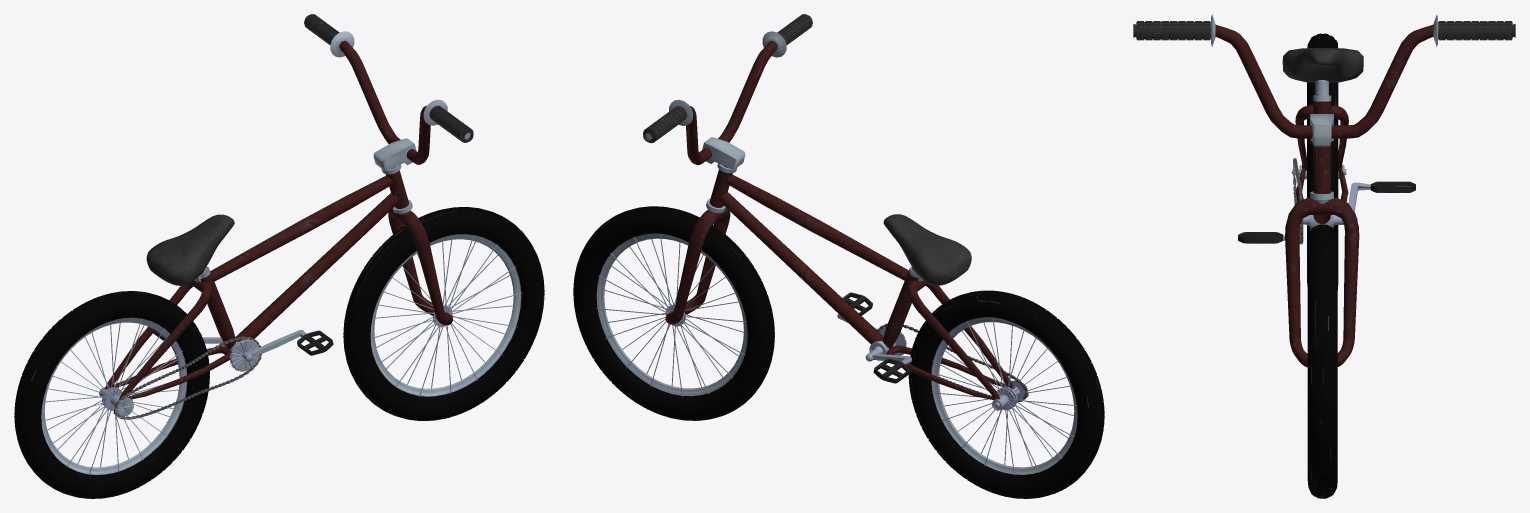
The model's file is bmx.glb.
The picture shows the model from 3 angles, left to right: view 1: azimuth 30°, elevation 25°; view 2: azimuth 150°, elevation 25°; view 3: azimuth 270°, elevation 25°; orthographic projection. The views are drawn at different scales.
Visible parts, largest first — view 1: Cylinder.006, Cylinder.005, Cylinder.011, Cube, Cylinder.001, Cylinder, Cylinder.004, Cylinder.007, Cube.003, Cube.001, Cylinder.009, Cube.002 (+7 smaller); view 2: Cylinder.006, Cylinder.005, Cylinder.011, Cube, Cylinder.001, Cylinder, Cylinder.004, Cylinder.007, Cube.002, Cube.013, Cube.003, Cube.001 (+6 smaller); view 3: Cylinder.006, Cylinder.011, Cylinder.004, Cube, Cylinder.005, Cylinder.002, Cylinder.007, Cube.005, Cylinder.009, Cube.007, Cube.006, Cylinder.003.
Part boxes in pixels (left/top/right/bottom): Cylinder.006: left=343, top=207, right=544, bottom=420; Cylinder.005: left=14, top=291, right=209, bottom=498; Cylinder.011: left=304, top=14, right=473, bottom=164; Cube: left=146, top=214, right=234, bottom=285; Cylinder.001: left=235, top=193, right=399, bottom=341; Cylinder: left=210, top=176, right=392, bottom=281; Cylinder.004: left=388, top=208, right=452, bottom=327; Cylinder.007: left=104, top=280, right=211, bottom=399; Cube.003: left=370, top=235, right=522, bottom=396; Cube.001: left=41, top=318, right=182, bottom=474; Cylinder.009: left=202, top=330, right=306, bottom=371; Cube.002: left=375, top=240, right=512, bottom=388; Cylinder.006: left=573, top=206, right=774, bottom=420; Cylinder.005: left=908, top=290, right=1104, bottom=498; Cylinder.011: left=643, top=14, right=812, bottom=165; Cube: left=883, top=214, right=971, bottom=285; Cylinder.001: left=719, top=192, right=883, bottom=344; Cylinder: left=725, top=174, right=908, bottom=280; Cylinder.004: left=665, top=208, right=730, bottom=326; Cylinder.007: left=907, top=280, right=1014, bottom=399; Cube.002: left=596, top=233, right=746, bottom=396; Cube.013: left=932, top=317, right=1076, bottom=475; Cube.003: left=604, top=239, right=743, bottom=387; Cube.001: left=939, top=323, right=1073, bottom=466; Cylinder.006: left=1307, top=224, right=1337, bottom=498; Cylinder.011: left=1133, top=14, right=1515, bottom=138; Cylinder.004: left=1285, top=197, right=1359, bottom=367; Cube: left=1282, top=48, right=1363, bottom=82; Cylinder.005: left=1307, top=33, right=1338, bottom=289; Cylinder.002: left=1310, top=138, right=1333, bottom=203; Cylinder.007: left=1295, top=105, right=1348, bottom=171; Cube.005: left=1310, top=114, right=1333, bottom=146; Cylinder.009: left=1283, top=182, right=1370, bottom=240; Cube.007: left=1370, top=181, right=1415, bottom=192; Cube.006: left=1238, top=232, right=1283, bottom=243; Cylinder.003: left=1313, top=80, right=1331, bottom=186.
Bounding box in the file's own units: 444 × 294 × 232.
5 materials, 5 textured.
